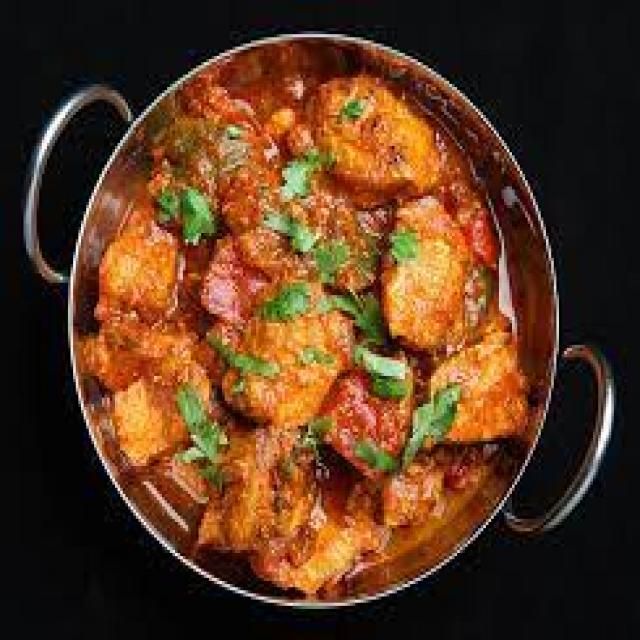Chicken Curry: (86, 74, 530, 594)
